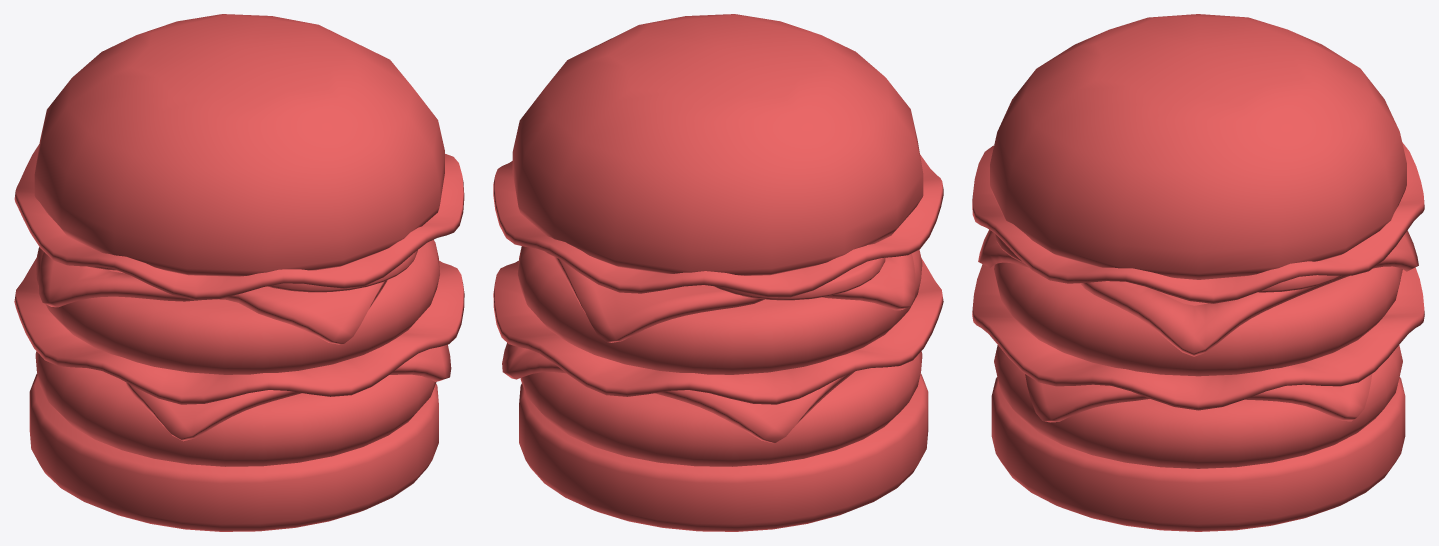
The model's file is Burger.fbx.
3 renders of one model, left to right at view 1: azimuth 30°, elevation 25°; view 2: azimuth 150°, elevation 25°; view 3: azimuth 270°, elevation 25°, orthographic.
Visible parts, largest first — view 1: topbun_low, Bottombun_low.001, Patty_low.001, Patty_low.002, Lettuce_low.001, Lettuce_low.002, Cheese_low.001, Cheese_low, Tomato_low; view 2: topbun_low, Bottombun_low.001, Patty_low.001, Patty_low.002, Lettuce_low.001, Lettuce_low.002, Cheese_low.001, Cheese_low, Tomato_low.001; view 3: topbun_low, Bottombun_low.001, Patty_low.001, Patty_low.002, Lettuce_low.001, Lettuce_low.002, Cheese_low.001, Cheese_low, Tomato_low.002.
Boxes of the visible parts, x1,y1,x2,y2 form: topbun_low: (34,14,444,276); Bottombun_low.001: (29,373,438,531); Patty_low.001: (35,239,439,374); Patty_low.002: (35,351,436,466); Lettuce_low.001: (14,258,464,404); Lettuce_low.002: (14,144,464,300); Cheese_low.001: (38,252,387,344); Cheese_low: (126,344,451,441); Tomato_low: (267,250,417,292); topbun_low: (512,14,923,275); Bottombun_low.001: (519,373,928,531); Patty_low.001: (518,246,922,374); Patty_low.002: (520,351,922,466); Lettuce_low.001: (493,258,943,404); Lettuce_low.002: (493,154,943,297); Cheese_low.001: (553,253,915,342); Cheese_low: (502,343,854,442); Tomato_low.001: (714,257,885,300); topbun_low: (990,14,1406,279); Bottombun_low.001: (991,377,1405,531); Patty_low.001: (994,262,1402,376); Patty_low.002: (994,345,1402,468); Lettuce_low.001: (972,264,1424,410); Lettuce_low.002: (972,142,1424,303); Cheese_low.001: (978,229,1418,356); Cheese_low: (1025,374,1372,422); Tomato_low.002: (1258,275,1341,292).
Bounding box in the file's own units: 23.99 × 23.75 × 23.97.
